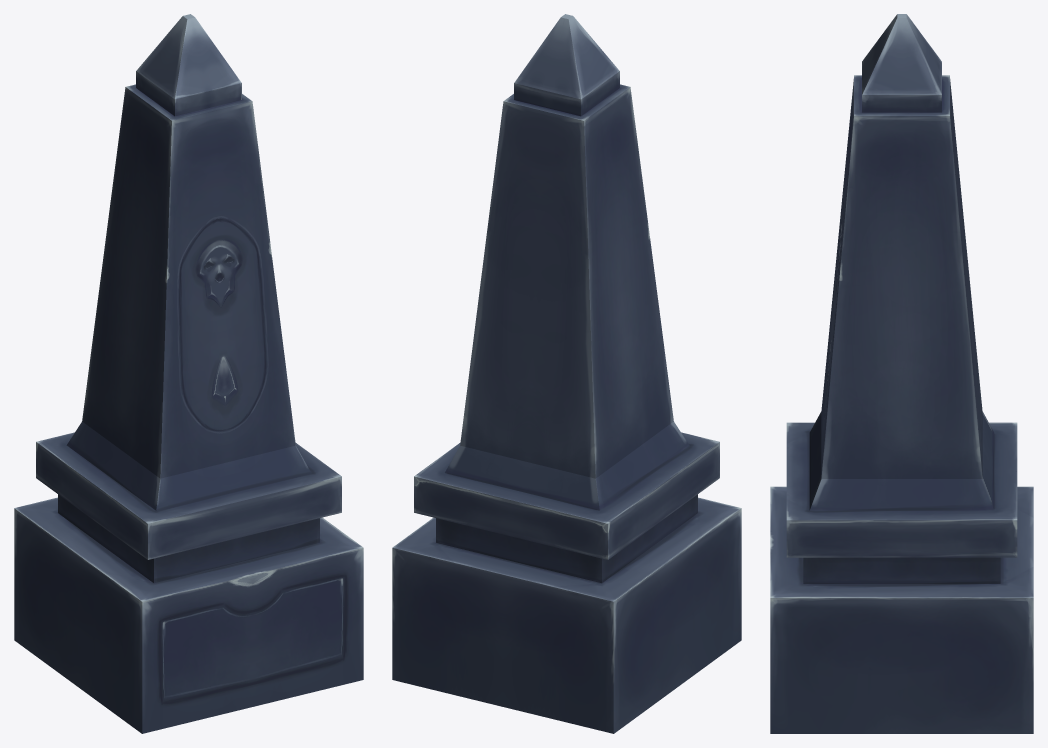
File: gravestone_2.fbx
The picture shows the model from 3 angles, left to right: view 1: azimuth 30°, elevation 25°; view 2: azimuth 150°, elevation 25°; view 3: azimuth 270°, elevation 25°; orthographic projection. The views are drawn at different scales.
Visible parts, largest first — view 1: Cube.007; view 2: Cube.007; view 3: Cube.007.
Boxes of the visible parts, left/top/right/bottom form: Cube.007: left=14, top=14, right=363, bottom=733; Cube.007: left=392, top=14, right=741, bottom=733; Cube.007: left=770, top=14, right=1033, bottom=733.
Size of what is drawn, in the model's own units: 190 by 527 by 190.
